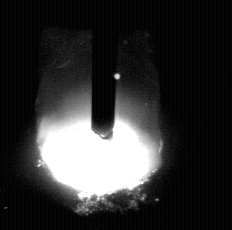arame: (93, 0, 117, 140)
poca: (37, 0, 163, 230)
